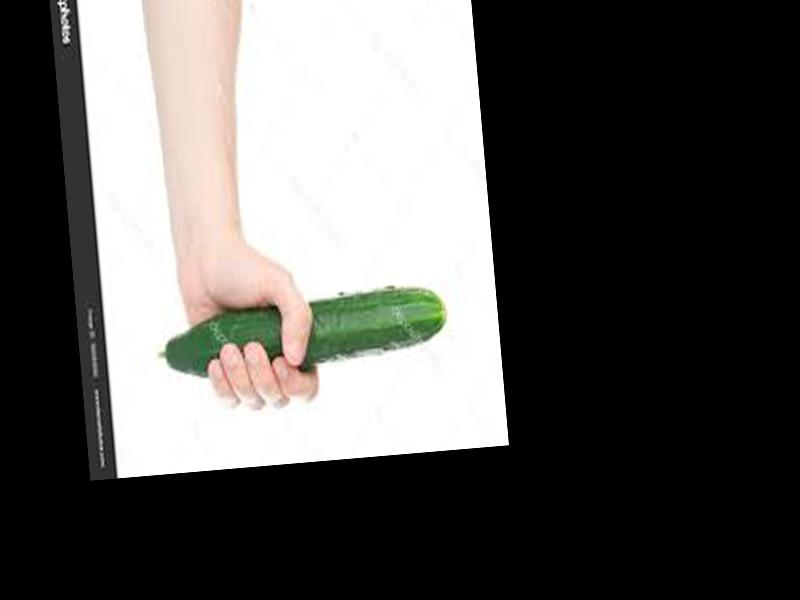Cucumber: (155, 284, 449, 381)
